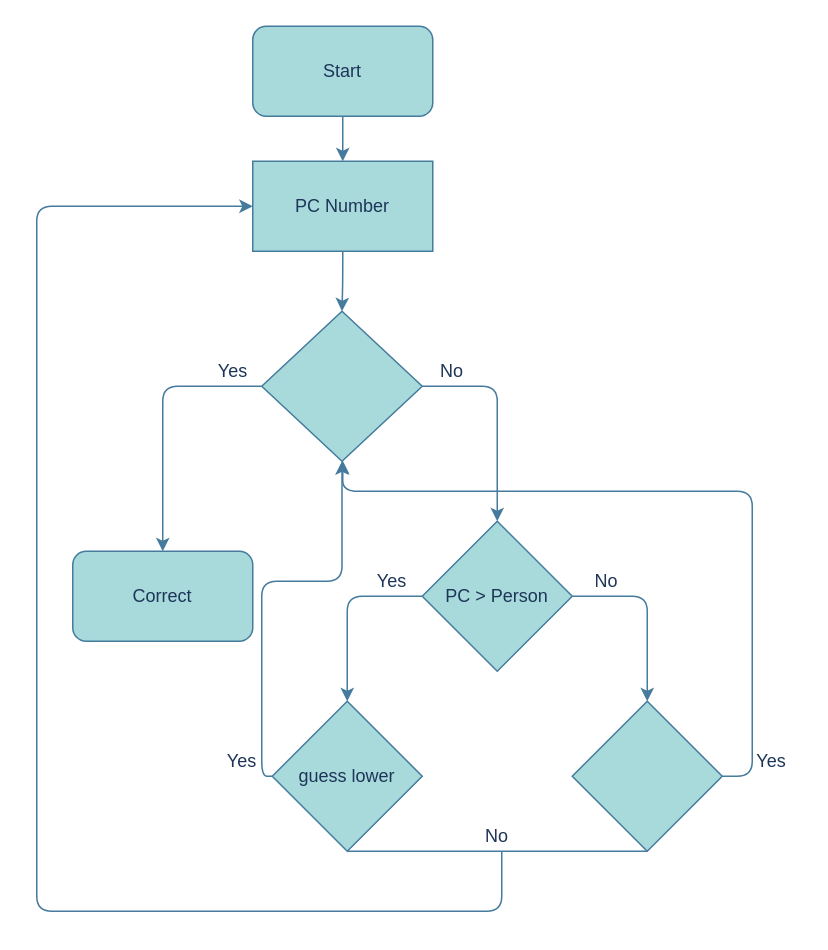
Some shapes in this 828 by 950 pixel diagram are drawn without their labels. The shapes that lost their labels are listed below. From the top down, each one's centre as x and y in pixels, then its label:
At point 341,385: "PC Number = Person Number".
At point 646,775: "guess higher".
